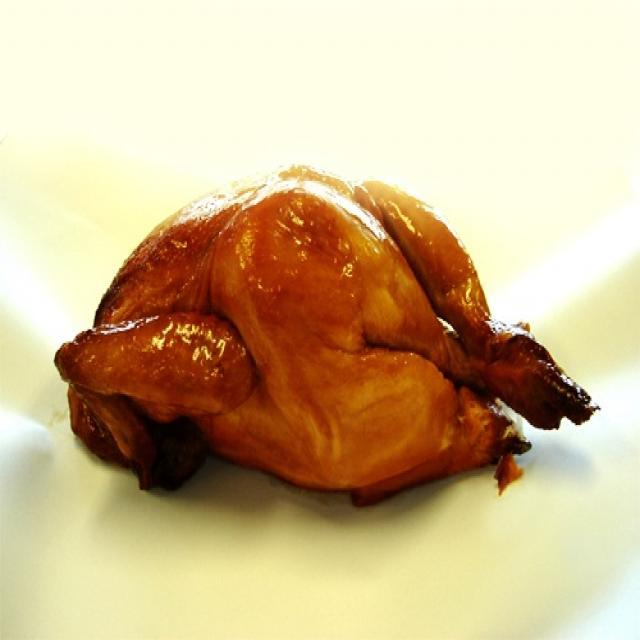Chicken roast: (69, 139, 586, 533)
